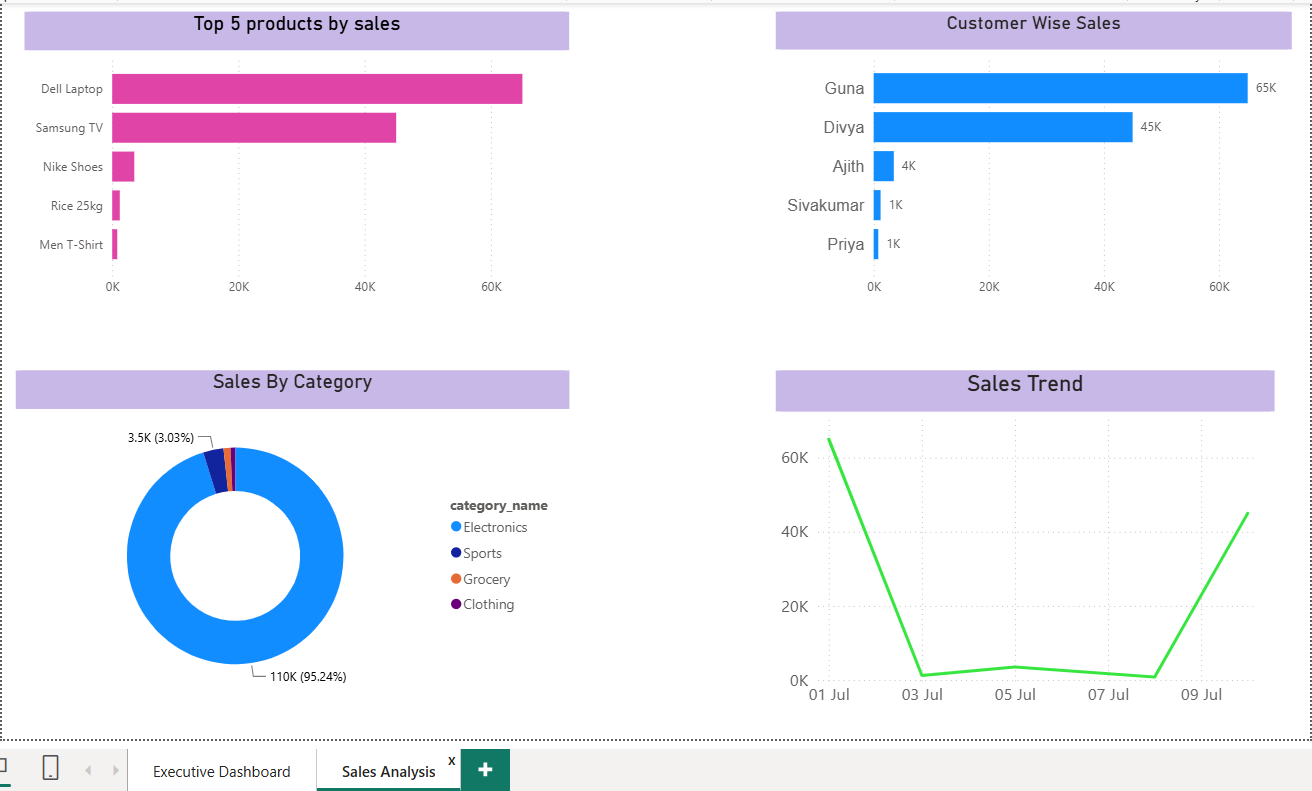

The dashboard page shown, as its layout file describes it:
{"tool":"powerbi","page":{"name":"Sales Analysis","canvas":[1280,720],"ordinal":1},"visuals":[{"type":"clusteredBarChart","title":"Top 5 products by sales","fields":{"Category":["sales_analytics_db products.product_name"],"Y":["sales_analytics_db order_details.Total Sales"]},"box":[22,8.6,533.2,287.4],"z":0},{"type":"clusteredBarChart","title":"Customer Wise Sales","fields":{"Category":["sales_analytics_db customers.customer_name"],"Y":["sales_analytics_db order_details.Total Sales"]},"box":[756.9,8.6,505,287.4],"z":1},{"type":"donutChart","title":"Sales By Category","fields":{"Category":["sales_analytics_db categories.category_name"],"Y":["sales_analytics_db order_details.Total Sales"]},"box":[13.5,359.5,541.7,330.2],"z":2},{"type":"lineChart","title":"Sales Trend","fields":{"Y":["sales_analytics_db order_details.Total Sales"],"Category":["sales_analytics_db orders.order_date"]},"box":[756.9,359.5,487.9,338.7],"z":3}]}

Visuals, with their boxes on the page's 1280x720 design canvas (x1, y1, x2, y2). These are canvas units, not pixel positions in the 1312x791 screenshot, which may show the page scaled, cropped or inside an application window:
"Top 5 products by sales" clusteredBarChart: <bbox>22, 9, 555, 296</bbox>
"Customer Wise Sales" clusteredBarChart: <bbox>757, 9, 1262, 296</bbox>
"Sales By Category" donutChart: <bbox>14, 360, 555, 690</bbox>
"Sales Trend" lineChart: <bbox>757, 360, 1245, 698</bbox>
